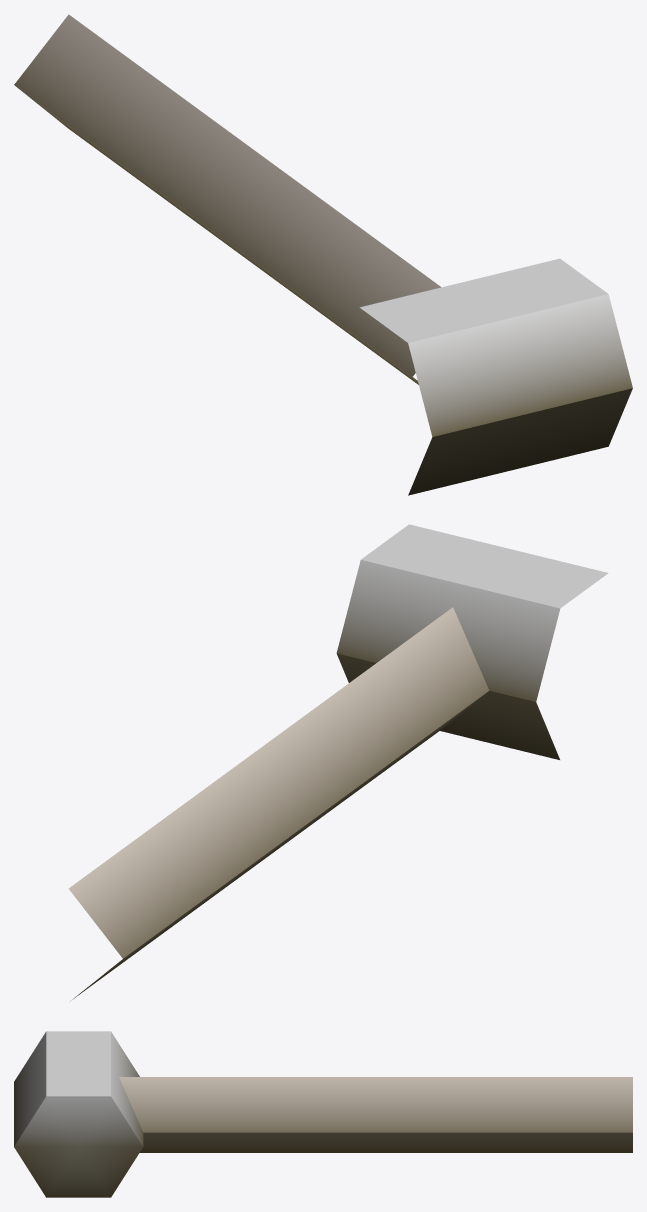
The model's file is FootholdRight.gltf.
3 renders of one model, top to bottom at view 1: azimuth 30°, elevation 25°; view 2: azimuth 150°, elevation 25°; view 3: azimuth 270°, elevation 25°, orthographic. The views are drawn at different scales.
Parts seen in each view (by area): view 1: FootholdRightMesh; view 2: FootholdRightMesh; view 3: FootholdRightMesh.
Part boxes in pixels (bbox=[...]): FootholdRightMesh: bbox=[14, 14, 632, 495]; FootholdRightMesh: bbox=[68, 524, 608, 999]; FootholdRightMesh: bbox=[14, 1031, 632, 1197].
Bounding box in the file's own units: 0.1988 × 0.1445 × 0.7987.
